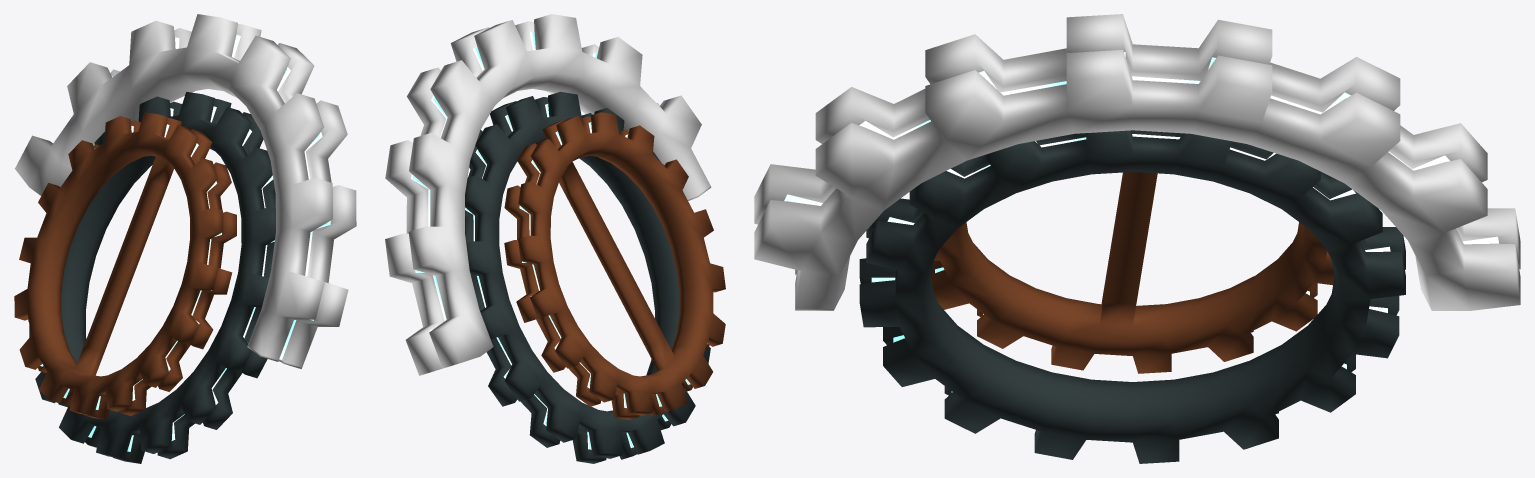
File: Scrap metal low.fbx
3 renders of one model, left to right at view 1: azimuth 30°, elevation 25°; view 2: azimuth 150°, elevation 25°; view 3: azimuth 270°, elevation 25°, orthographic. The views are drawn at different scales.
Visible parts, largest first — view 1: Gear_low; view 2: Gear_low; view 3: Gear_low.
Part boxes in pixels (x1,y1,x2,y2): Gear_low: [14, 14, 356, 463]; Gear_low: [385, 14, 725, 463]; Gear_low: [754, 14, 1520, 463].
Size of the model in its own units: 86.28 by 130 by 162.
